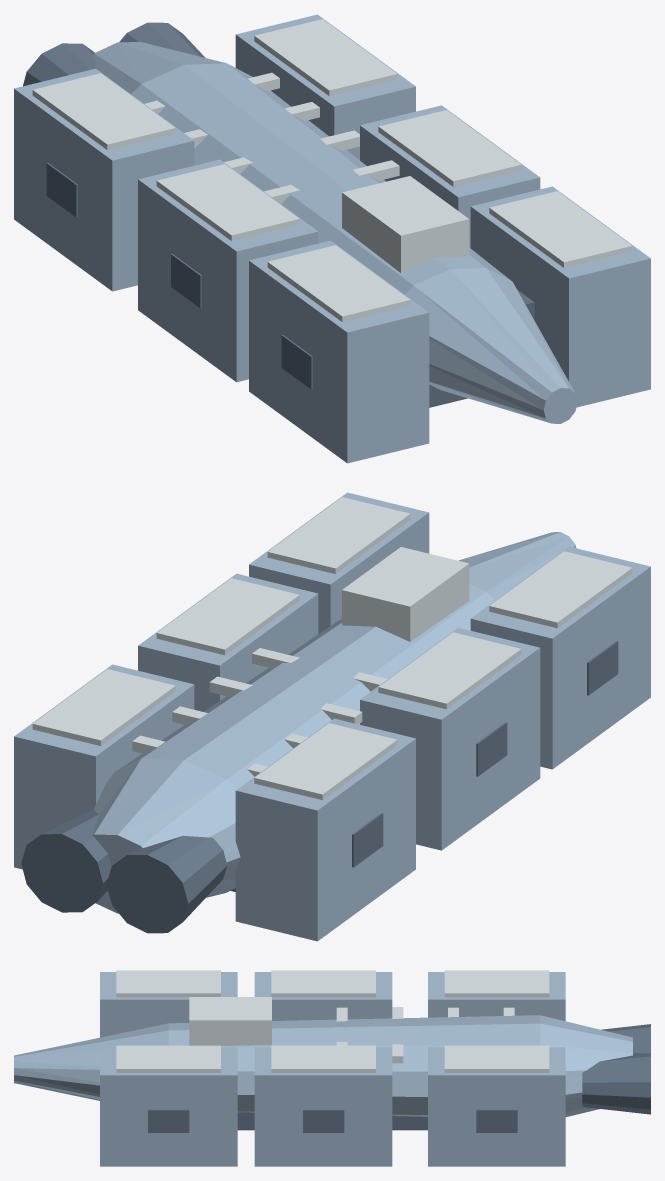
3 views of the same model, one above another, from view 1: azimuth 30°, elevation 25°; view 2: azimuth 150°, elevation 25°; view 3: azimuth 270°, elevation 25° (orthographic). The views are drawn at different scales.
Size of the model in its own units: 3.46 by 1.64 by 8.89.
